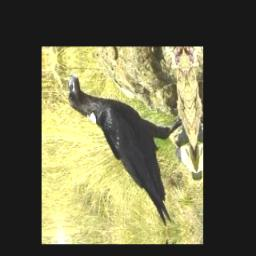Crow: (64, 64, 196, 236)
